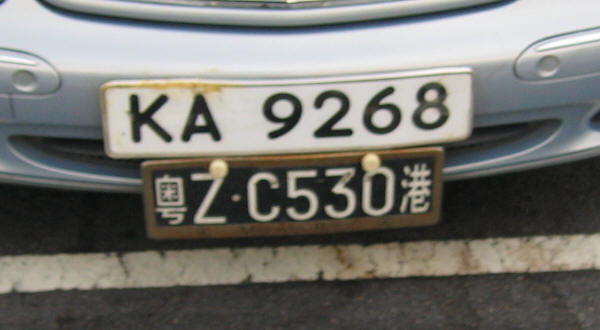license plate: (94, 63, 480, 159), (136, 144, 448, 242)
